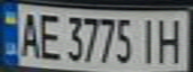3: (60, 12, 84, 63)
5: (115, 15, 139, 64)
7: (97, 15, 118, 64), (81, 14, 100, 63)
A: (15, 9, 42, 60)
E: (33, 9, 63, 61)
H: (154, 14, 190, 65)
I: (136, 15, 160, 65)
